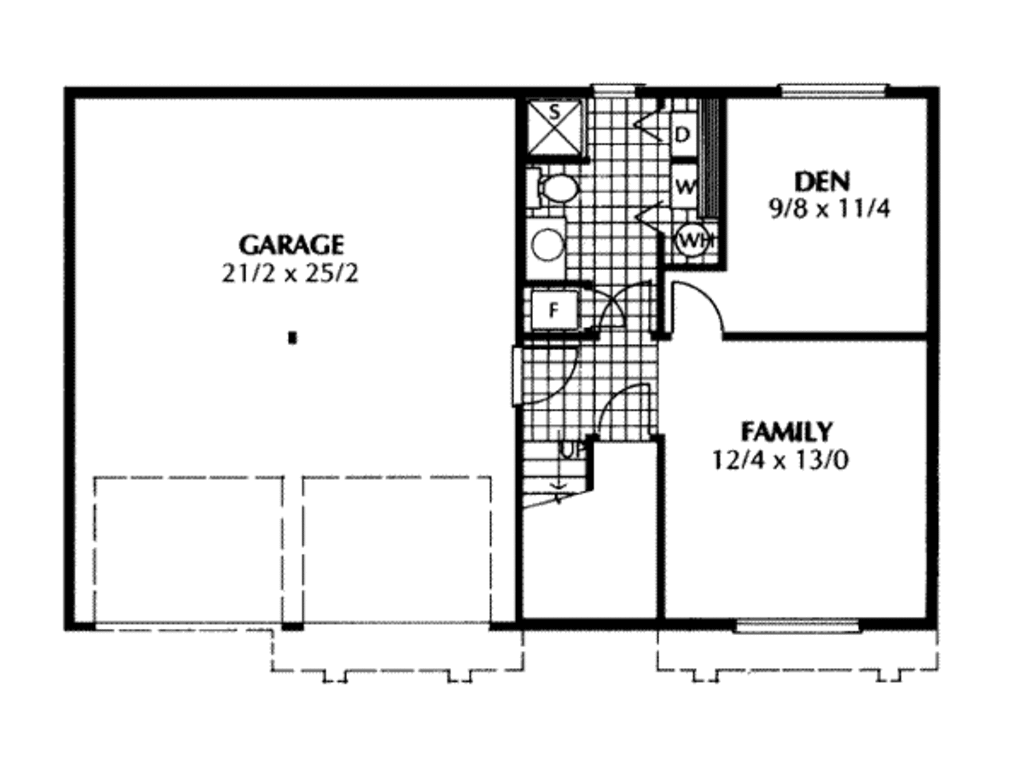door: (503, 343, 587, 411), (662, 276, 727, 343), (597, 384, 656, 443), (581, 276, 631, 342), (603, 277, 657, 334)
large_sink: (520, 151, 592, 218)
stairs: (514, 432, 598, 521)
window: (734, 611, 865, 635), (775, 77, 897, 100), (582, 78, 649, 107)
